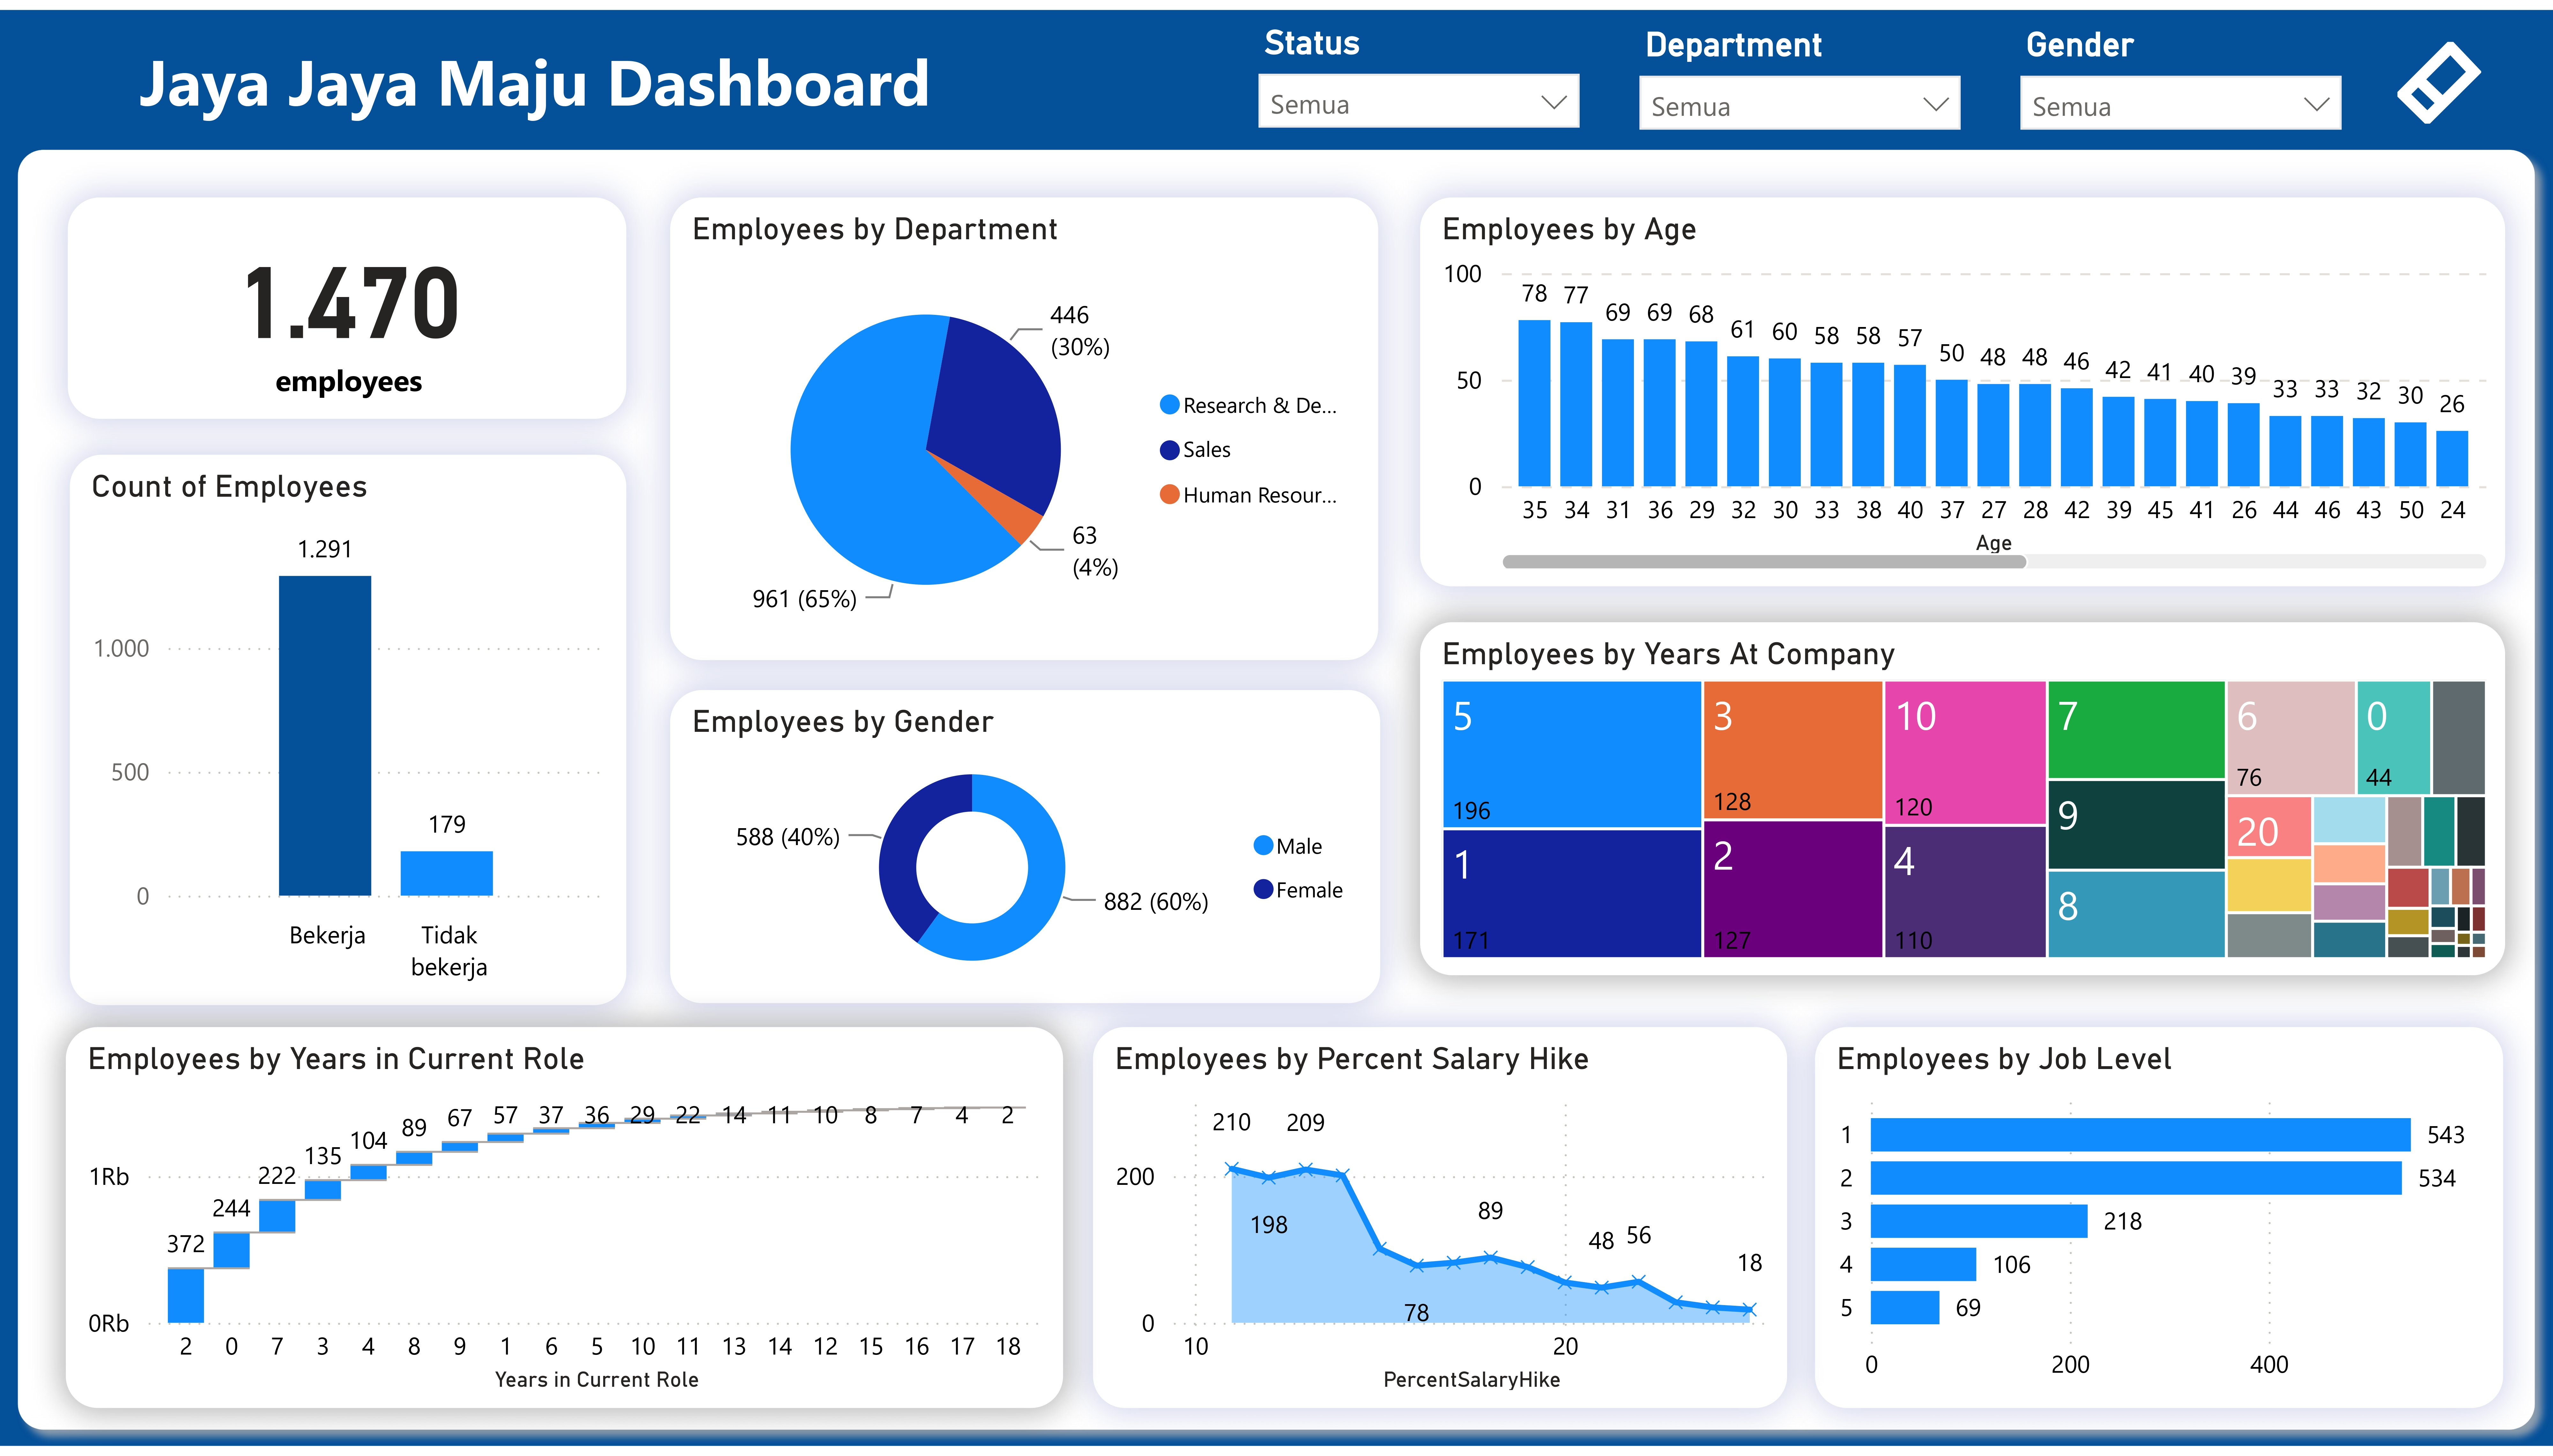

Layout of this report page (visuals, bound fields, positions):
{"tool":"powerbi","page":{"name":"Page 1","canvas":[1280,720],"ordinal":0},"visuals":[{"type":"shape","box":[0,61,1280,659.8],"z":0},{"type":"clusteredColumnChart","title":"Count of Employees","fields":{"Y":["database.employees"],"Category":["database.Attritions"]},"box":[34.8,222.6,278.6,275.6],"z":1000},{"type":"card","fields":{"Values":["database.employees"]},"box":[34,94.5,279.7,111.5],"z":2000},{"type":"clusteredColumnChart","title":"Attritions by Age","fields":{"Y":["database.Attritions"],"Category":["database.Age"]},"box":[711.7,93.9,543.6,195.3],"z":3000},{"type":"clusteredBarChart","title":"Attritions by Job Level","fields":{"Category":["database.JobLevel"],"Y":["database.Attritions"]},"box":[910,510.3,345.2,190.8],"z":4000},{"type":"slicer","fields":{"Values":["database.Attritions"]},"box":[620.8,1.4,181.1,69],"z":5000},{"type":"textbox","box":[64.7,5.7,385.1,61.8],"z":6000},{"type":"slicer","fields":{"Values":["database.Department"]},"box":[811.5,1.6,181.4,69.3],"z":7000},{"type":"slicer","fields":{"Values":["database.Gender"]},"box":[1002.9,1.6,181.4,69.3],"z":8000},{"type":"pieChart","title":"Attritions by Department","fields":{"Category":["database.Department"],"Y":["database.Attritions"]},"box":[336.4,94.5,355.3,232.4],"z":9000},{"type":"donutChart","title":"Attritions by Gender","fields":{"Y":["database.Attritions"],"Category":["database.Gender"]},"box":[336.2,340.7,355.8,157.5],"z":10000},{"type":"treemap","title":"Attritions by Years At Company","fields":{"Values":["database.Attritions"],"Group":["database.YearsAtCompany"]},"box":[711.7,307.4,543.6,177.2],"z":11000},{"type":"areaChart","title":"Attritions by Percent Salary Hike","fields":{"Category":["database.PercentSalaryHike"],"Y":["database.Attritions"]},"box":[548.1,510.3,348.3,190.8],"z":12000},{"type":"waterfallChart","title":"Attritions by Years in Current Role","fields":{"Category":["database.YearsInCurrentRole"],"Y":["database.Attritions"]},"box":[33.3,510.3,499.7,190.8],"z":13000},{"type":"actionButton","box":[1190.9,11.5,64.3,49.5],"z":14000}]}

Visuals, with their boxes in screenshot pixels (x1, y1, x2, y2), scaled from the page's 1280x720 canvas onto the 2553x1456 screenshot:
shape: [0, 123, 2553, 1456]
"Count of Employees" clusteredColumnChart: [69, 450, 625, 1007]
card - database.employees: [68, 191, 626, 417]
"Attritions by Age" clusteredColumnChart: [1419, 190, 2504, 585]
"Attritions by Job Level" clusteredBarChart: [1815, 1032, 2504, 1418]
slicer - database.Attritions: [1238, 3, 1599, 142]
textbox: [129, 11, 897, 137]
slicer - database.Department: [1619, 3, 1980, 143]
slicer - database.Gender: [2000, 3, 2362, 143]
"Attritions by Department" pieChart: [671, 191, 1380, 661]
"Attritions by Gender" donutChart: [670, 689, 1380, 1007]
"Attritions by Years At Company" treemap: [1419, 622, 2504, 980]
"Attritions by Percent Salary Hike" areaChart: [1093, 1032, 1788, 1418]
"Attritions by Years in Current Role" waterfallChart: [66, 1032, 1063, 1418]
actionButton: [2375, 23, 2504, 123]
